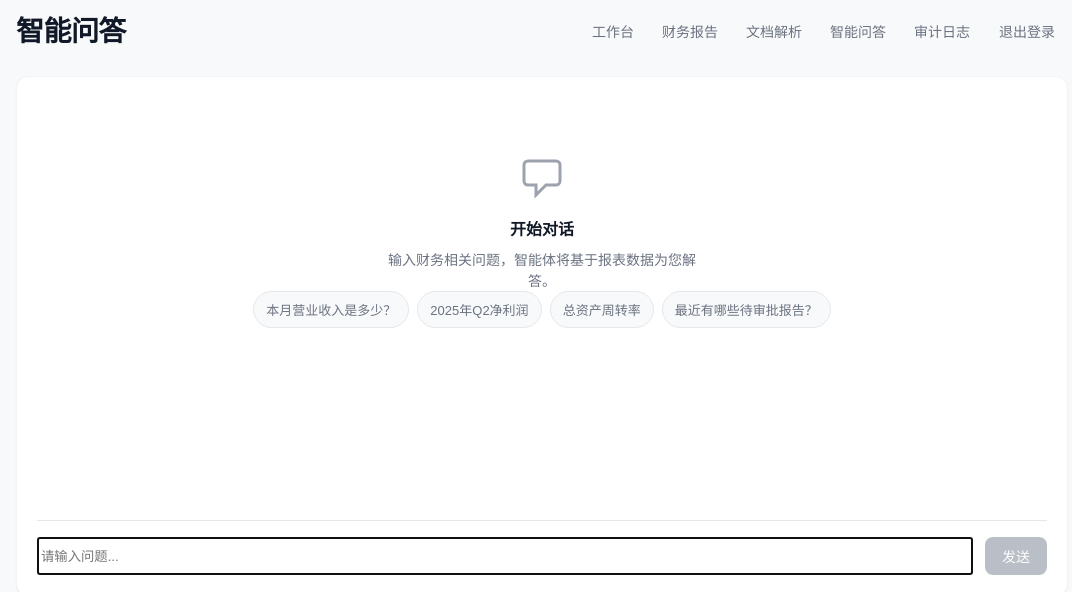
it: AgentChatPage › shows error when chat fails
Type "本月收入" into the field with placeholder "请输入问题..." at [505, 556], box [37,537,973,575]
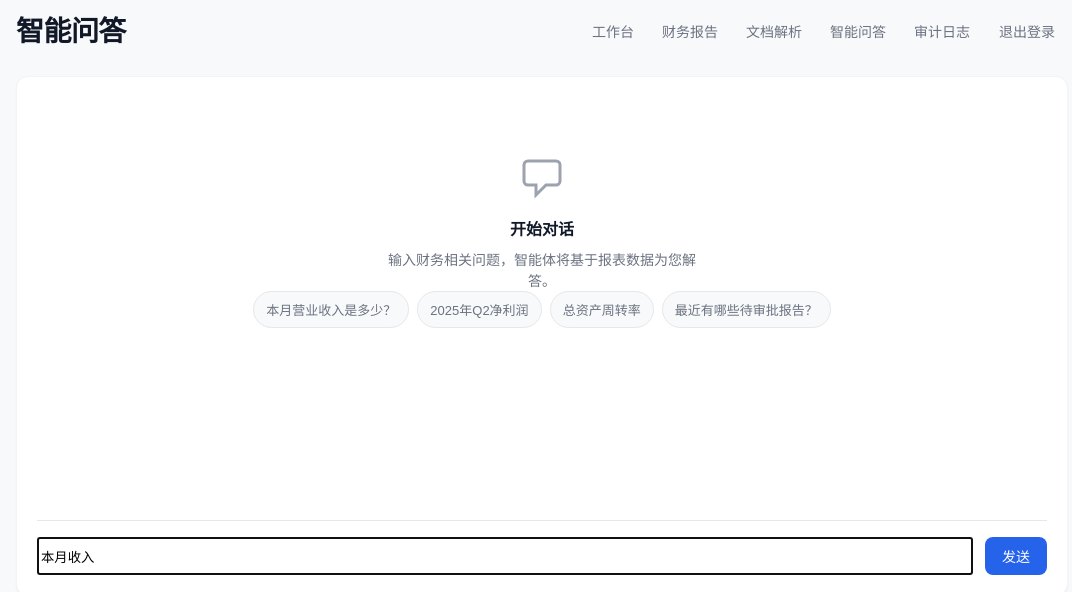
Click the button "发送" at [1016, 556], box [985,537,1047,575]
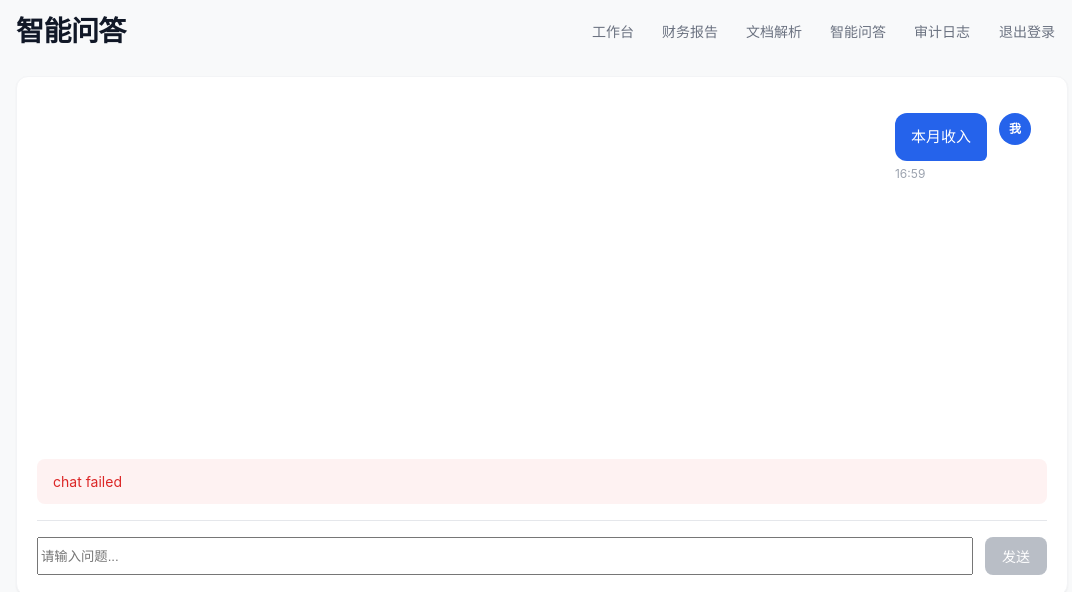
Check: the text "chat failed" is shown, box [37,459,1047,504]
